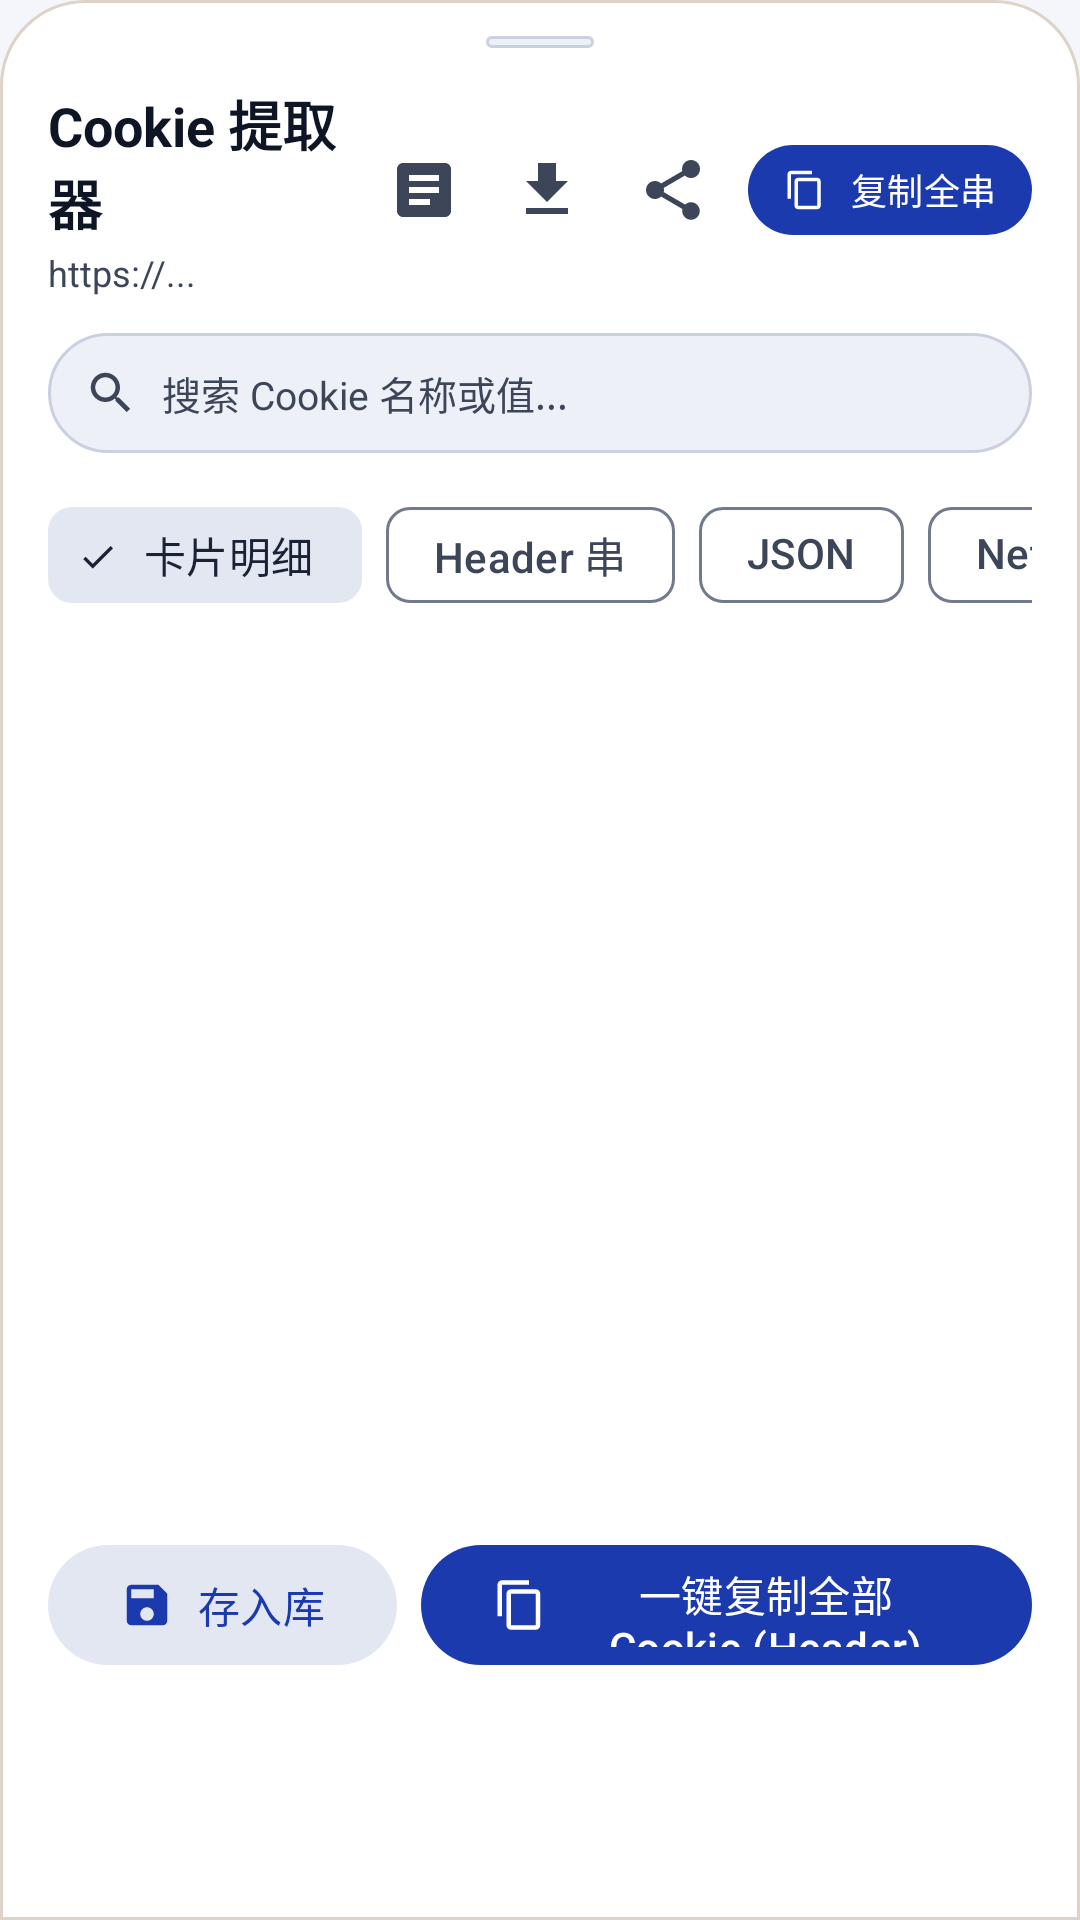

Icon click points for this 1080 × 1920 phone screenshot, format [x,y]:
发送到便签/微信: [673,190]
导出为txt文件: [547,188]
